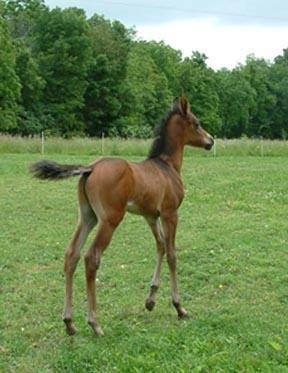horse: (28, 95, 214, 337)
